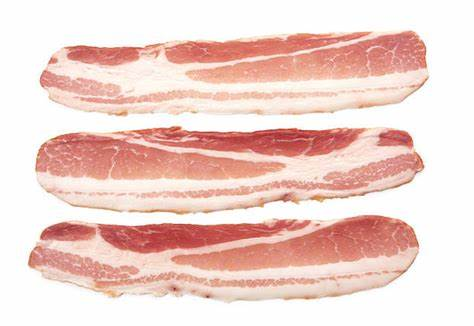Bacon: (39, 21, 430, 125), (23, 212, 425, 303), (29, 122, 425, 214)
